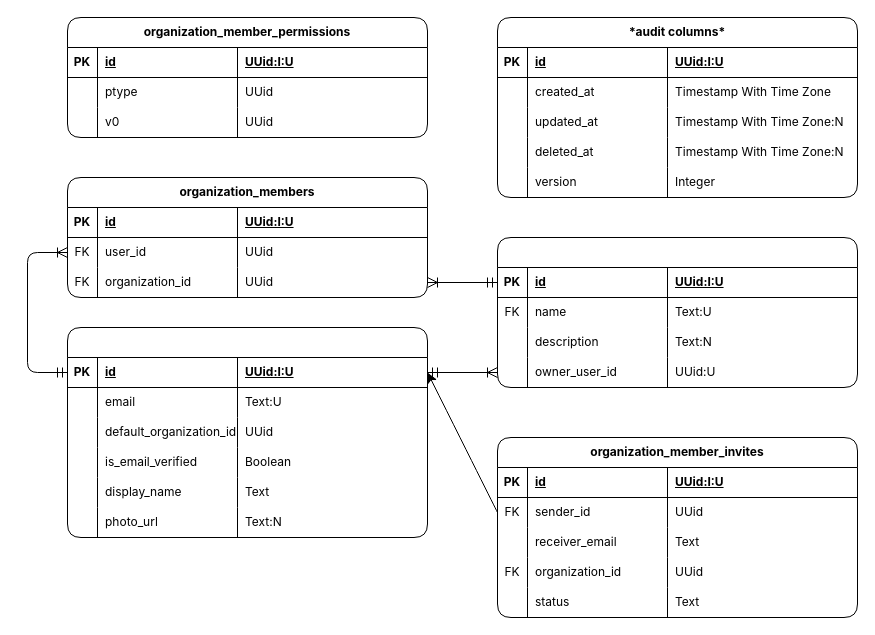
This 875x635 diagram has some shape labels left out. The shapes that lost their labels are listed below. From the top down, each one's box as (x1, y1, x2, y2) in pixels, then its label:
(496, 236, 858, 388): organizations
(66, 326, 428, 538): users
